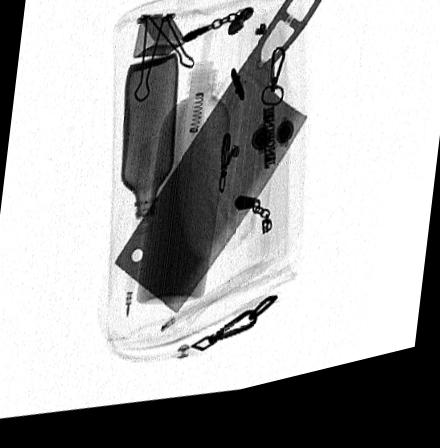Knife: (112, 0, 340, 323)
